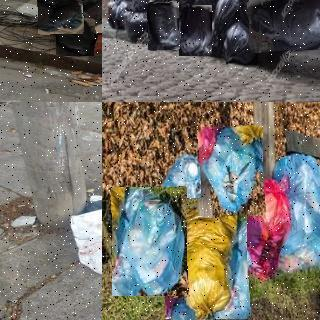Garbage: (163, 196, 249, 320), (112, 187, 187, 296), (265, 147, 320, 272), (199, 126, 265, 217), (235, 177, 293, 280), (149, 151, 209, 229), (248, 0, 320, 51), (218, 20, 259, 64), (179, 5, 212, 56), (147, 2, 180, 51), (37, 0, 83, 34), (56, 18, 94, 56), (68, 0, 102, 34), (106, 0, 133, 28), (119, 0, 151, 10)
